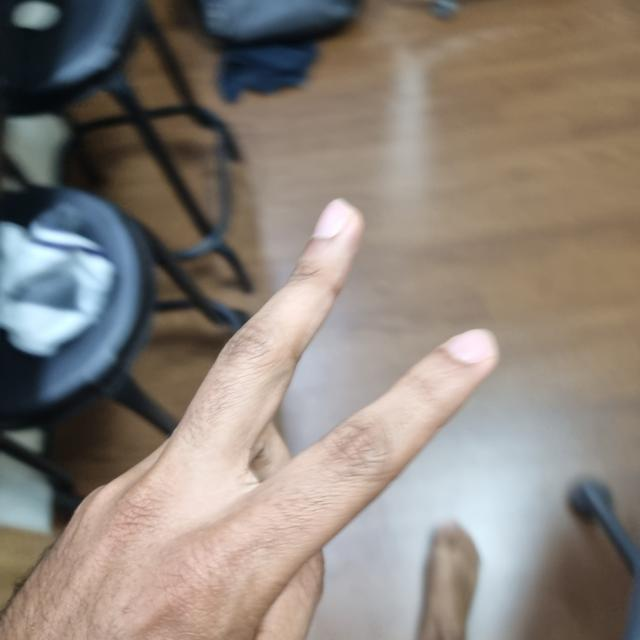Scissors: (0, 201, 499, 639)
